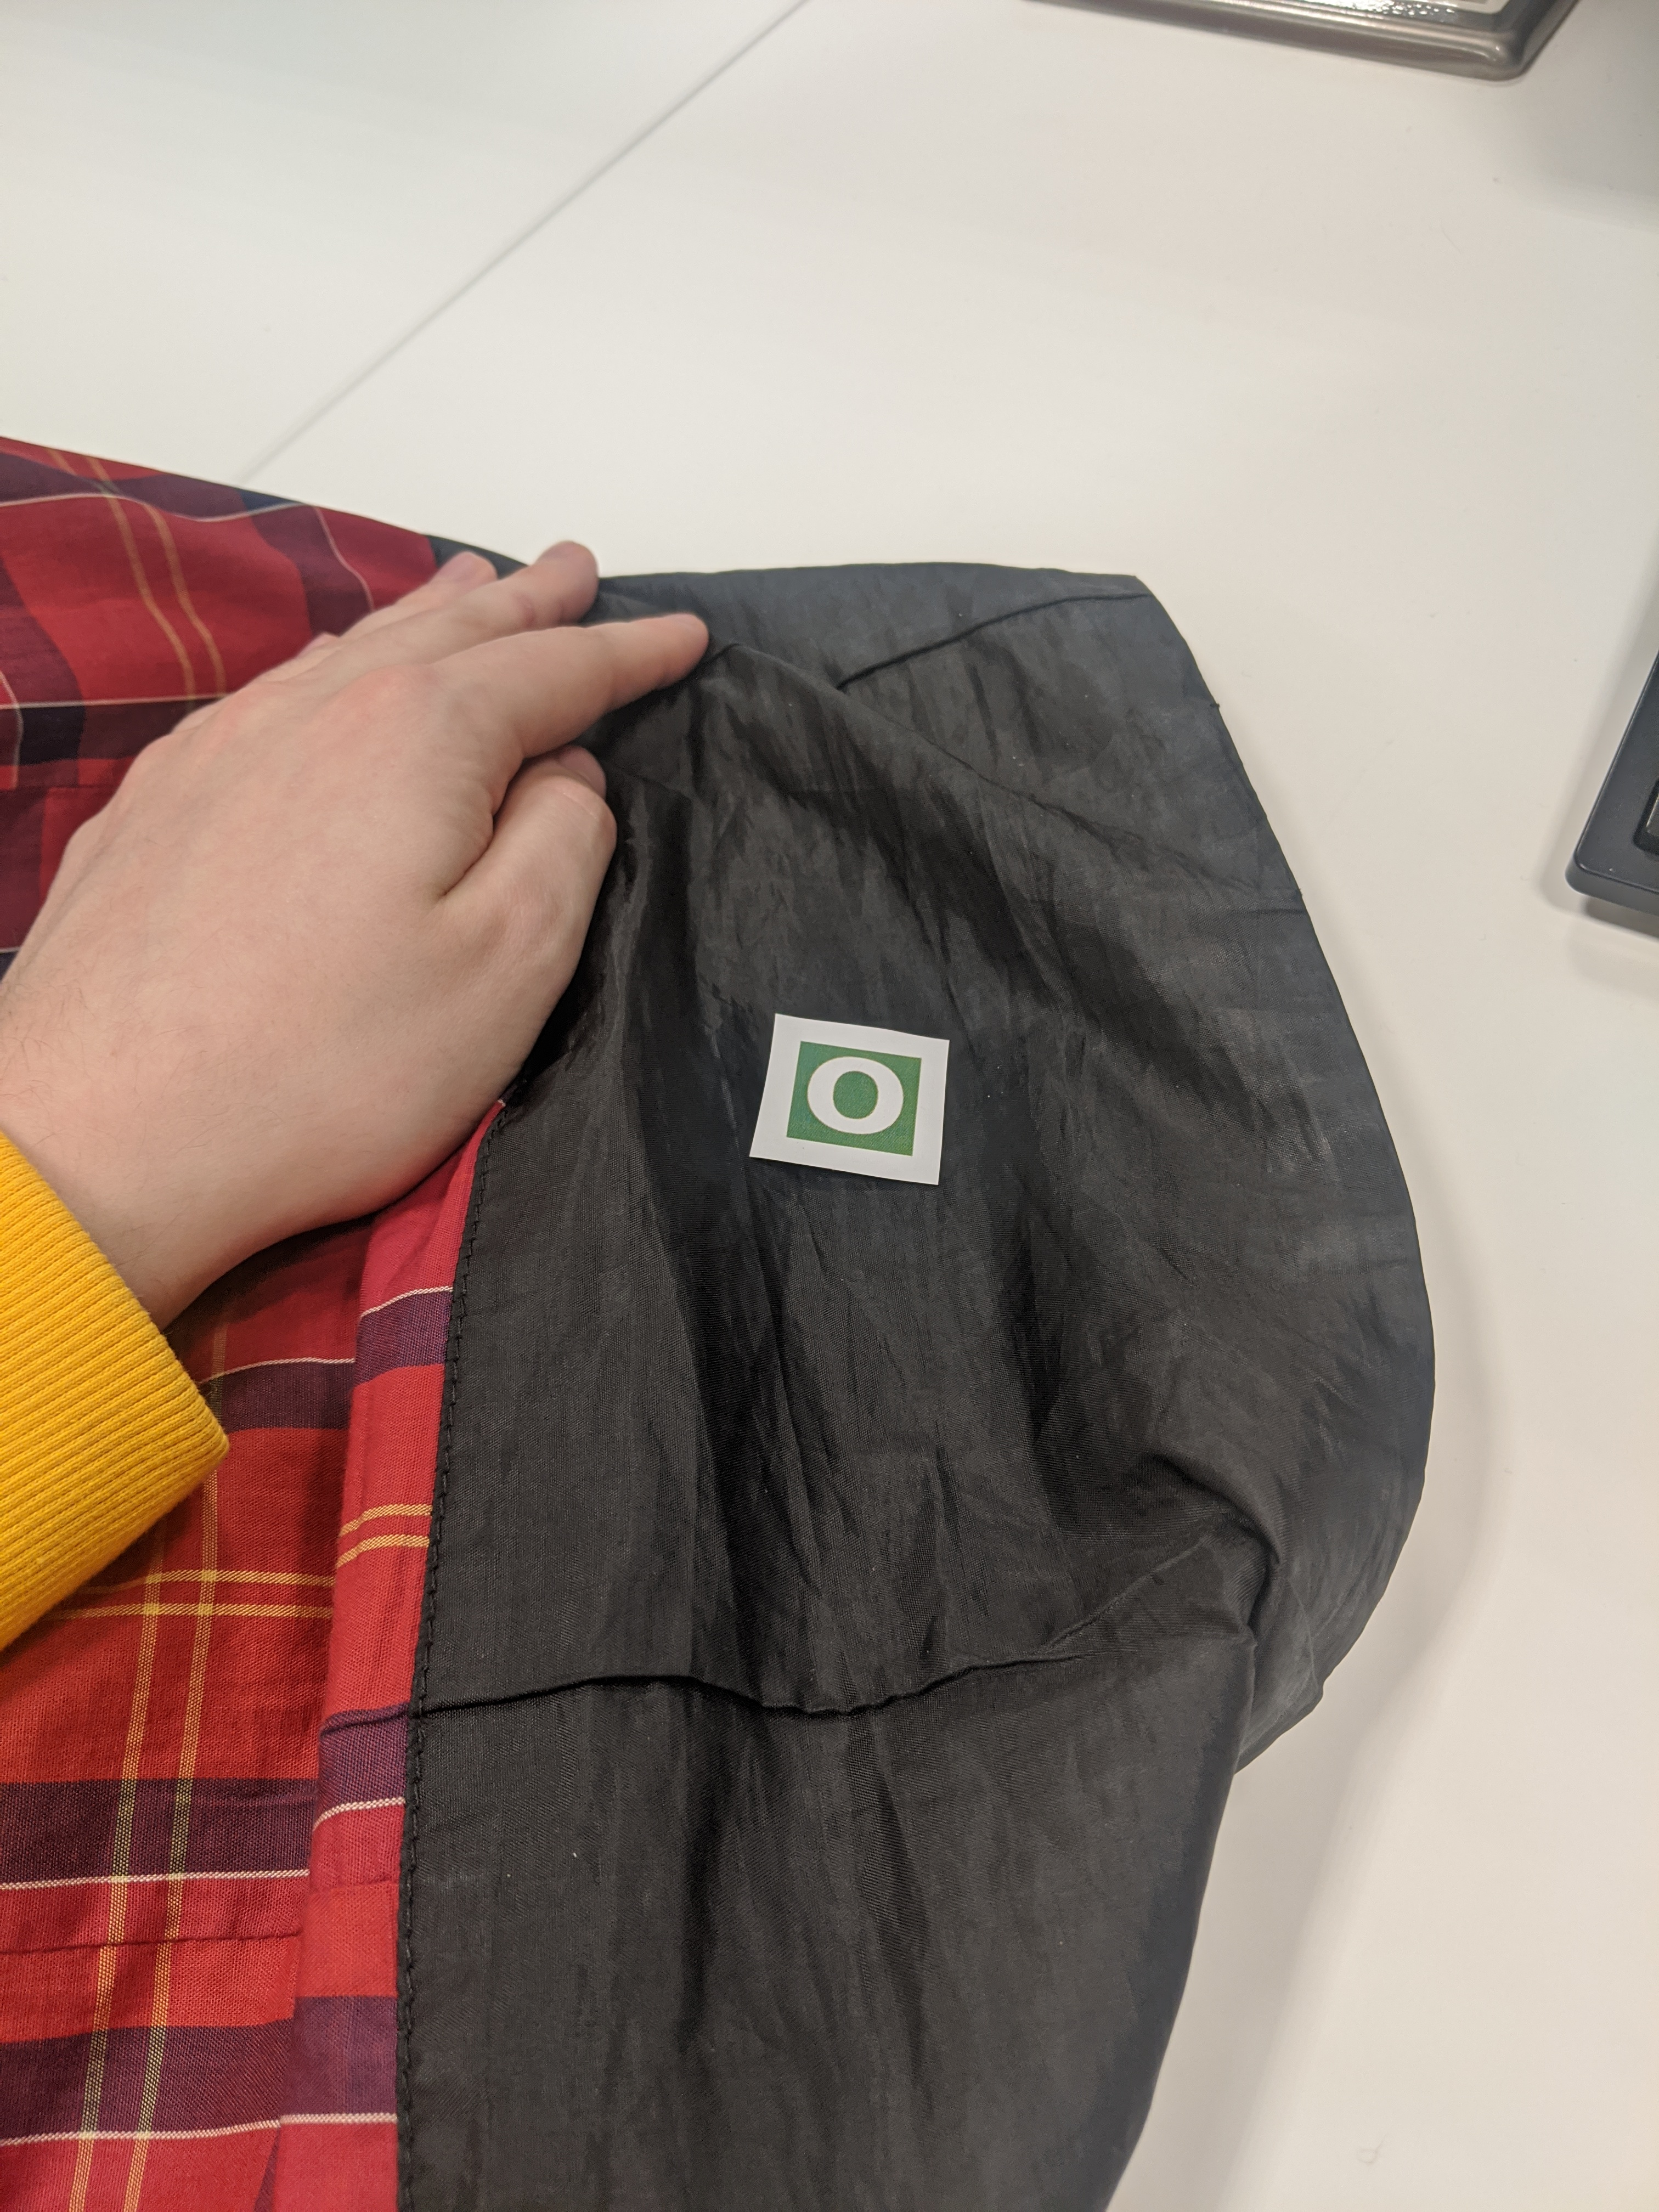marker: (753, 993, 950, 1177)
